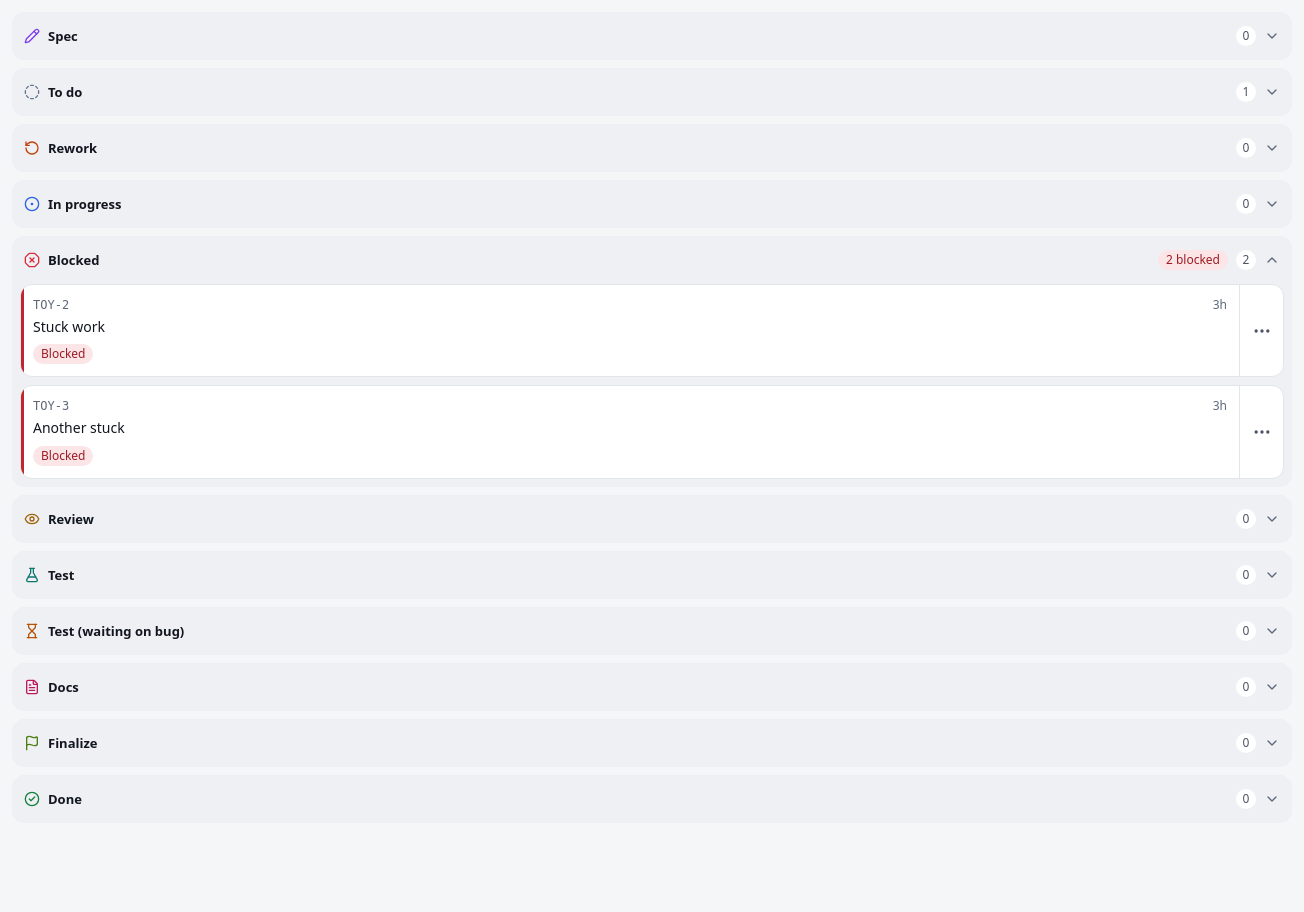
Test case: the phone board is an accordion › still renders when storage is blocked
Click the button "To do 1".
click(65, 92)  # box [12,68,1292,116]
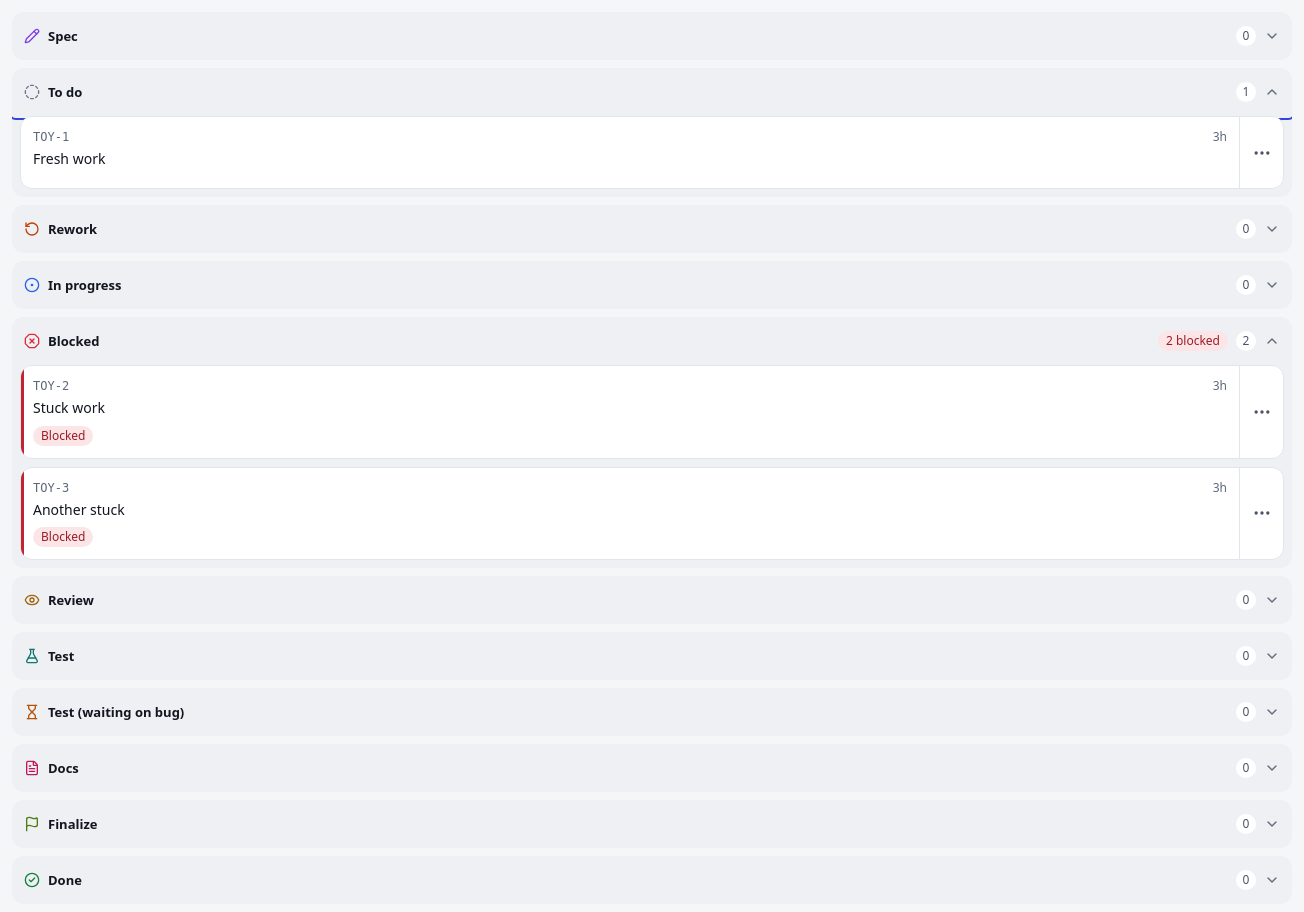
Check: the text "Fresh work" is shown, box [33,149,105,168]
